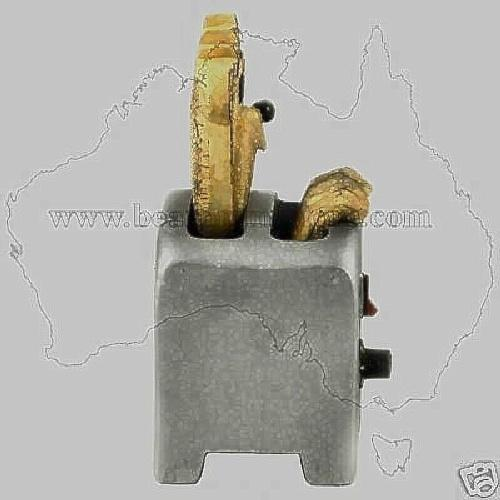toaster: (153, 16, 382, 489)
